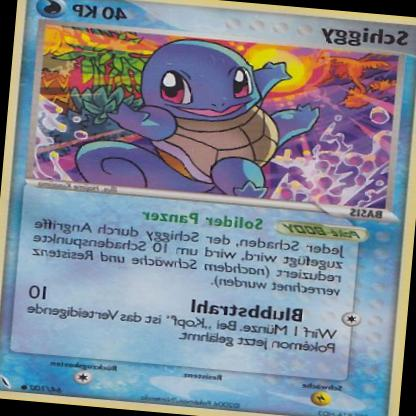Squirtle: (78, 30, 327, 202)
